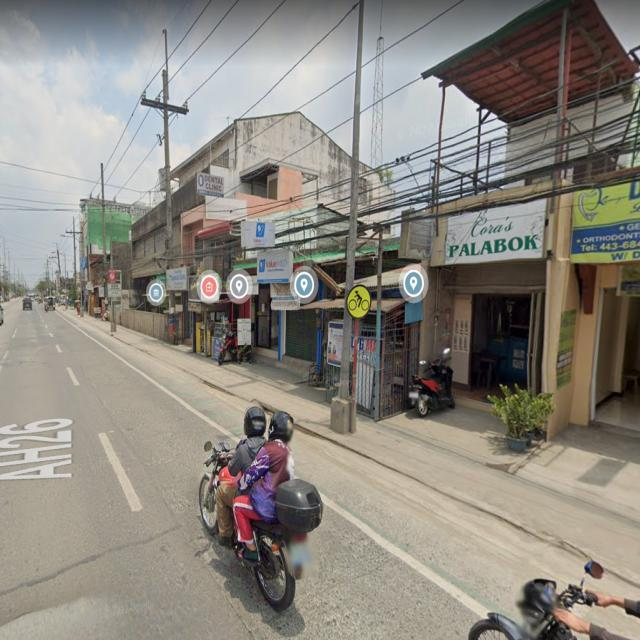bike lane: (347, 282, 372, 326)
